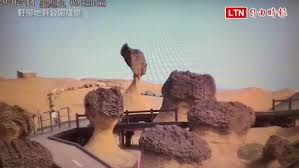yehliu: (117, 41, 152, 80)
